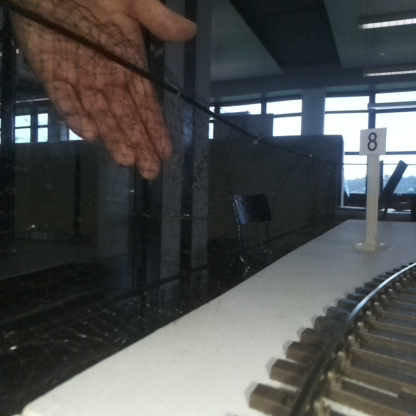white-info-8: (360, 128, 386, 250)
